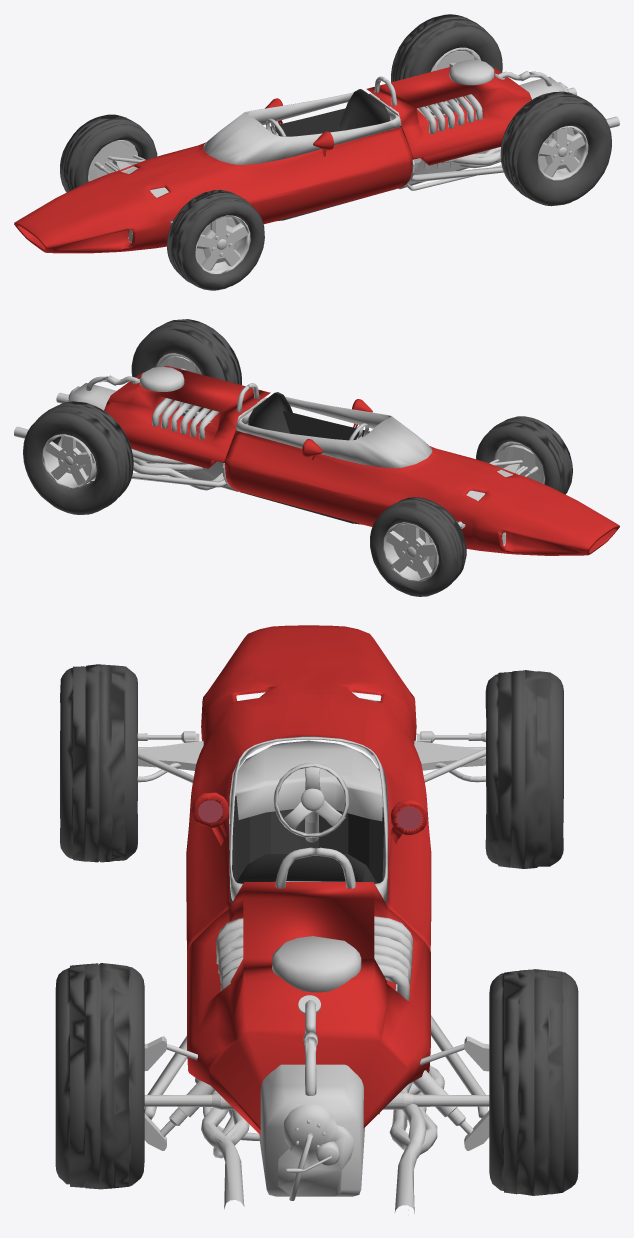
Rendered from classic.glb.
3 views of the same model, one above another, from view 1: azimuth 30°, elevation 25°; view 2: azimuth 150°, elevation 25°; view 3: azimuth 270°, elevation 25° (orthographic). The views are drawn at different scales.
Parts seen in each view (by area): view 1: Plane.012_Plane.013, Plane.015_Plane.016, Torus.002_Torus.004, Plane, Torus.001, Torus.003_Torus.005, Torus, Cube.003_Cube.001, Plane.005_Plane.018, Cylinder.009, Cube_Cube.002, Plane.007_Plane.017 (+8 smaller); view 2: Plane.012_Plane.013, Plane.015_Plane.016, Torus.003_Torus.005, Plane, Torus, Torus.002_Torus.004, Torus.001, Cube.003_Cube.001, Plane.013_Plane.014, Cylinder.009, Cylinder.001, Plane.009 (+8 smaller); view 3: Plane.015_Plane.016, Plane.012_Plane.013, Torus.003_Torus.005, Torus.002_Torus.004, Torus, Torus.001, Plane.006, Cube.001_Cube.003, Plane.013_Plane.014, Cylinder.020_Cylinder.021, Cylinder.017_Cylinder.018, Cylinder.009 (+16 smaller).
Boxes of the visible parts, <box> form: Plane.012_Plane.013: <box>14,127,412,253</box>; Plane.015_Plane.016: <box>366,66,531,165</box>; Torus.002_Torus.004: <box>500,91,611,206</box>; Plane: <box>203,92,401,164</box>; Torus.001: <box>167,190,264,290</box>; Torus.003_Torus.005: <box>391,14,502,115</box>; Torus: <box>60,114,157,192</box>; Cube.003_Cube.001: <box>88,51,574,262</box>; Plane.005_Plane.018: <box>197,217,247,270</box>; Cylinder.009: <box>417,94,482,133</box>; Cube_Cube.002: <box>339,89,390,132</box>; Plane.007_Plane.017: <box>539,128,587,178</box>; Plane.012_Plane.013: <box>224,430,619,555</box>; Plane.015_Plane.016: <box>104,366,270,468</box>; Torus.003_Torus.005: <box>23,401,133,514</box>; Plane: <box>236,396,432,468</box>; Torus: <box>370,497,466,596</box>; Torus.002_Torus.004: <box>131,319,241,420</box>; Torus.001: <box>476,416,572,494</box>; Cube.003_Cube.001: <box>61,356,542,571</box>; Plane.013_Plane.014: <box>240,411,369,524</box>; Cylinder.009: <box>152,397,246,439</box>; Cylinder.001: <box>14,426,224,490</box>; Plane.009: <box>386,524,436,581</box>; Plane.015_Plane.016: <box>187,882,430,1134</box>; Plane.012_Plane.013: <box>186,625,431,950</box>; Torus.003_Torus.005: <box>489,969,578,1195</box>; Torus.002_Torus.004: <box>55,963,144,1189</box>; Torus: <box>485,670,563,868</box>; Torus.001: <box>60,664,137,862</box>; Plane.006: <box>235,740,382,821</box>; Cube.001_Cube.003: <box>259,1064,364,1196</box>; Plane.013_Plane.014: <box>229,768,388,903</box>; Cylinder.020_Cylinder.021: <box>277,1104,353,1196</box>; Cylinder.017_Cylinder.018: <box>272,936,361,992</box>; Cylinder.009: <box>216,916,412,1000</box>.
Size of the model in its own units: 6.95 by 1.34 by 2.78.
